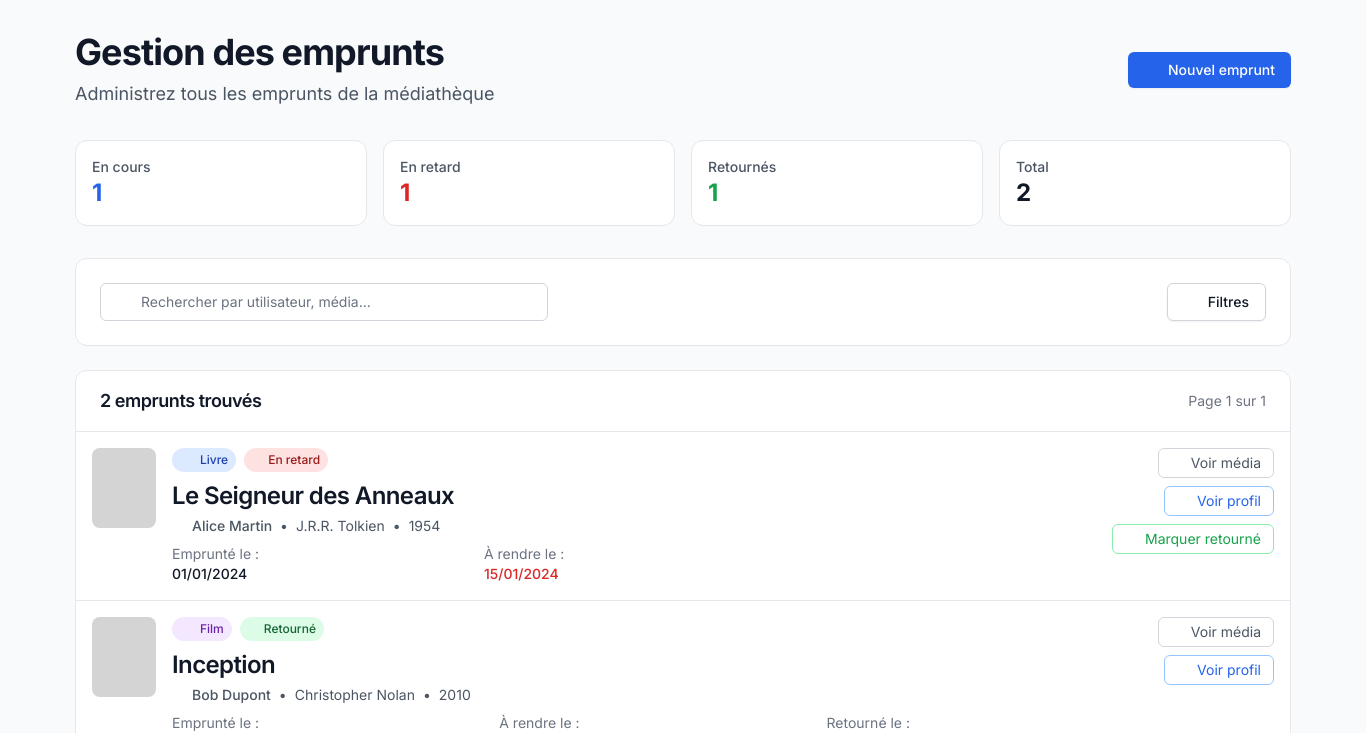
Test: AdminBorrowsPage › Recherche et filtres › permet d'ouvrir et fermer les filtres
Click the button with test id "filter-button": {"x": 1216, "y": 302} [1167,283,1266,321]
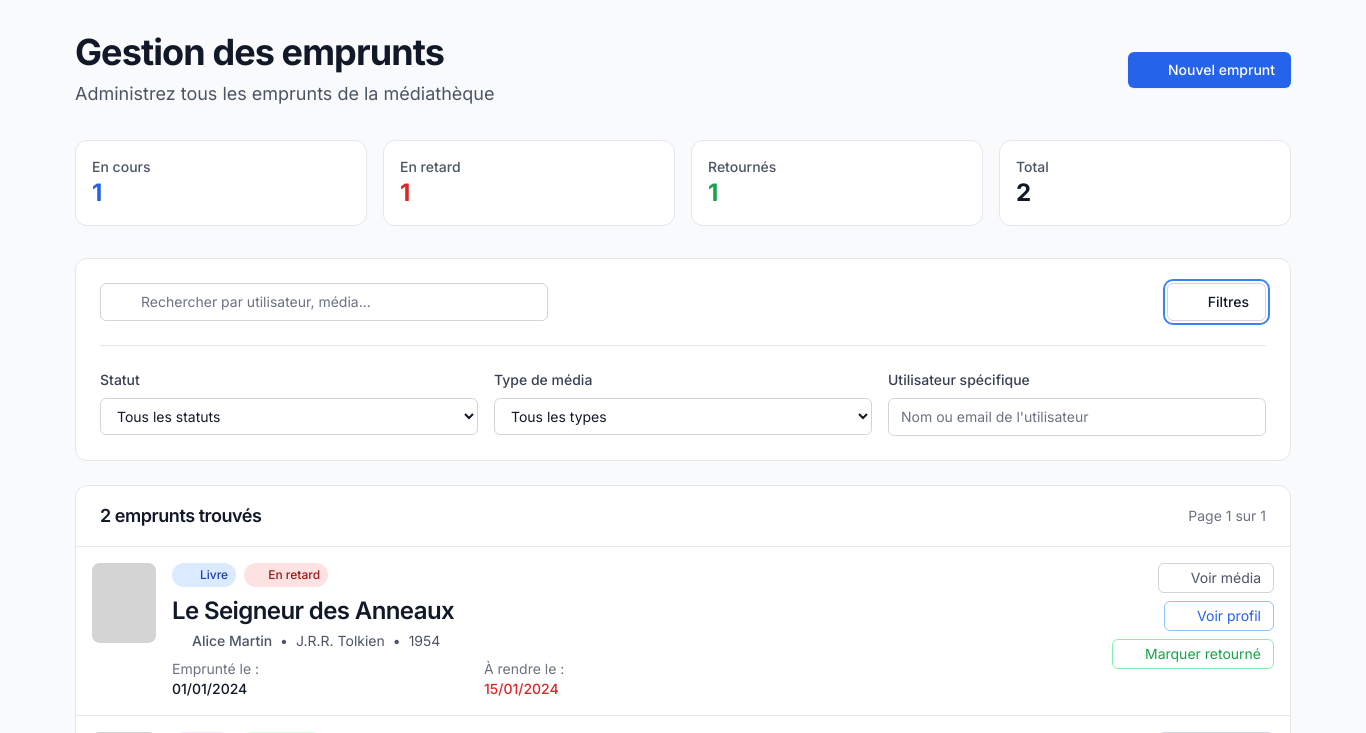
Result: the dropdown with test id "status-filter" is shown at [100,398,478,435]
Result: the dropdown with test id "media-type-filter" is shown at [494,398,872,435]
Result: the field with test id "user-filter" is shown at [888,398,1266,436]
Click the button with test id "filter-button": {"x": 1216, "y": 302} [1167,283,1266,321]
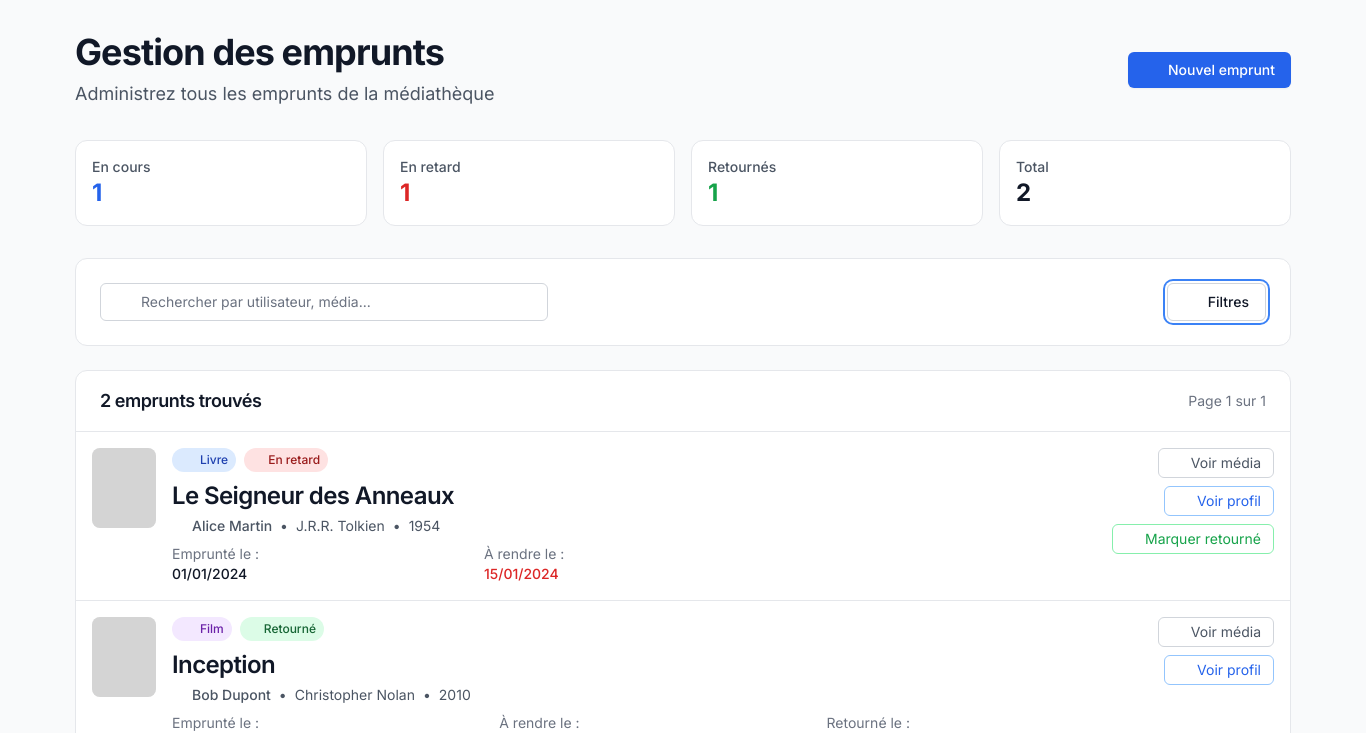
Result: the dropdown with test id "status-filter" is gone
Result: the dropdown with test id "media-type-filter" is gone
Result: the field with test id "user-filter" is gone
